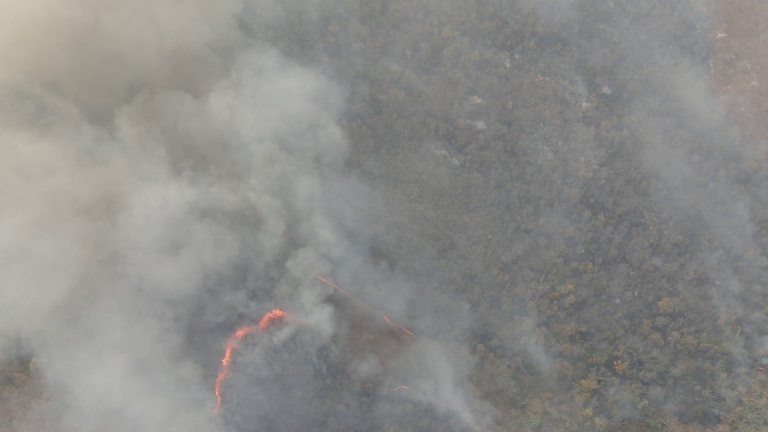fire: (203, 307, 307, 429), (288, 246, 359, 306), (369, 303, 421, 339), (380, 379, 451, 405)
smoke: (8, 47, 288, 423), (220, 42, 380, 255), (420, 346, 488, 430)
